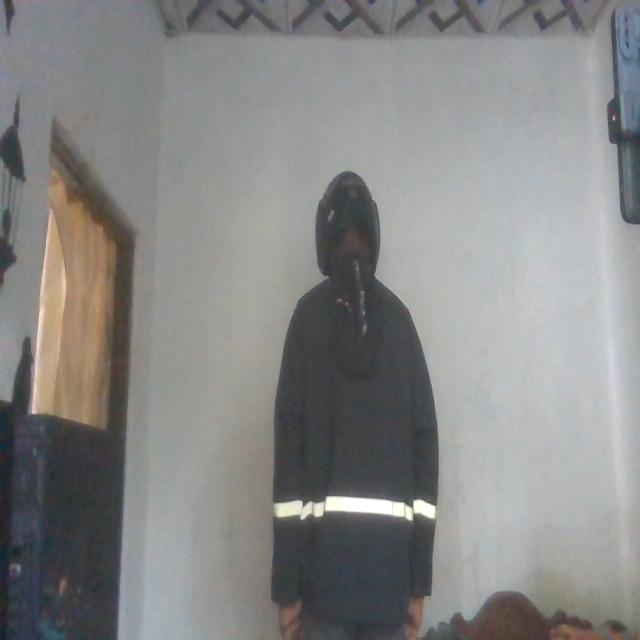Helmet_Wearer: (300, 168, 390, 318)
Jacket_Wearer: (262, 259, 436, 639)
Person: (266, 170, 438, 640)
